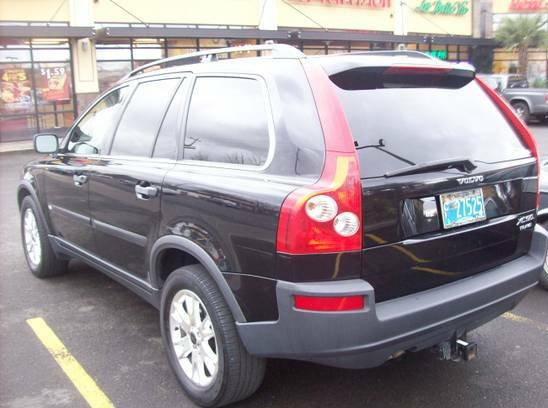volvo: (11, 35, 545, 408)
